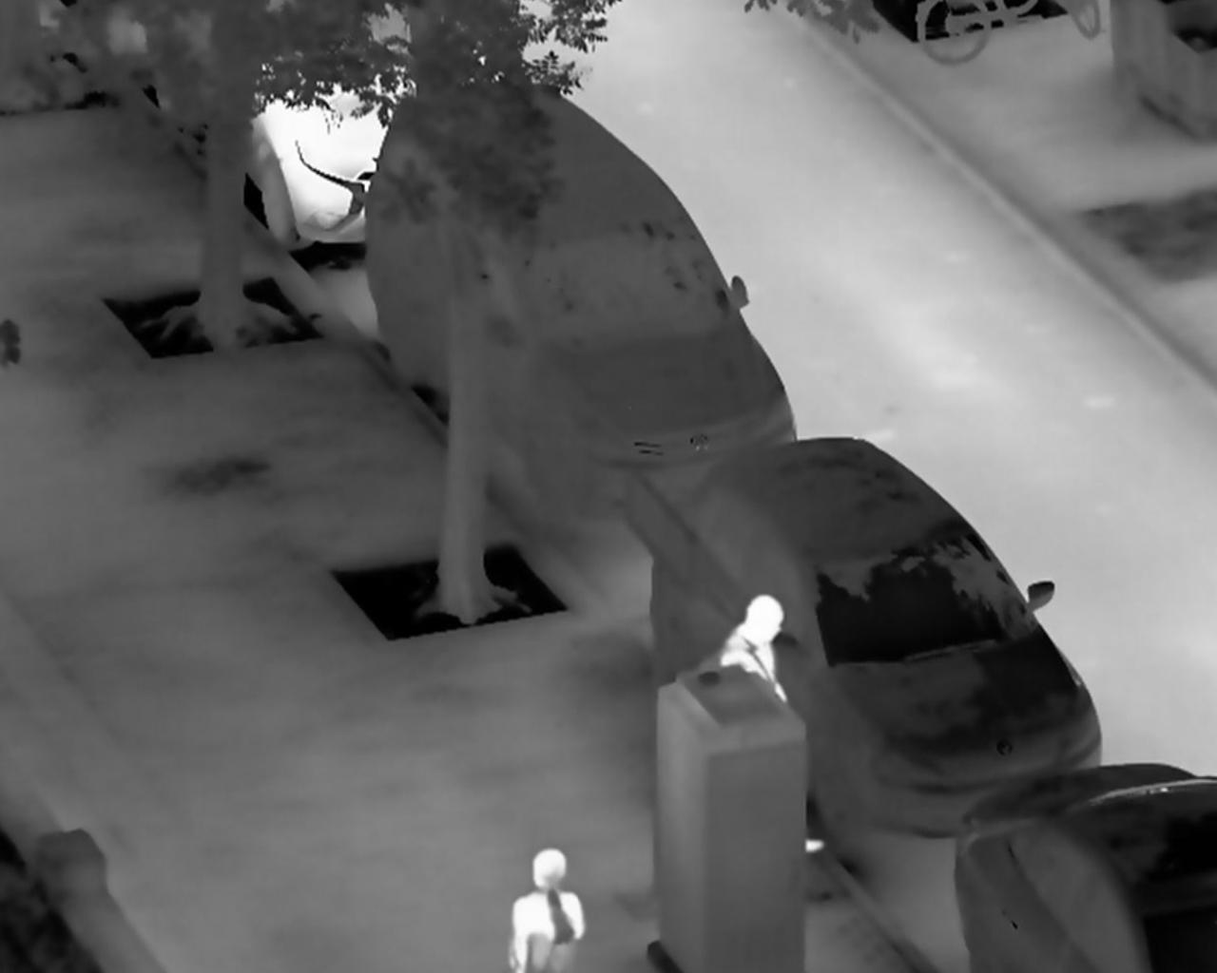person: (506, 839, 590, 973), (715, 590, 790, 701)
